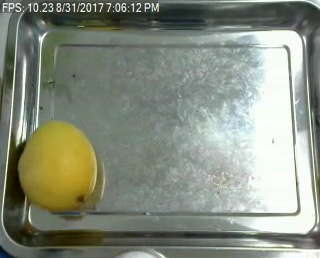Mango: (15, 118, 101, 211)
